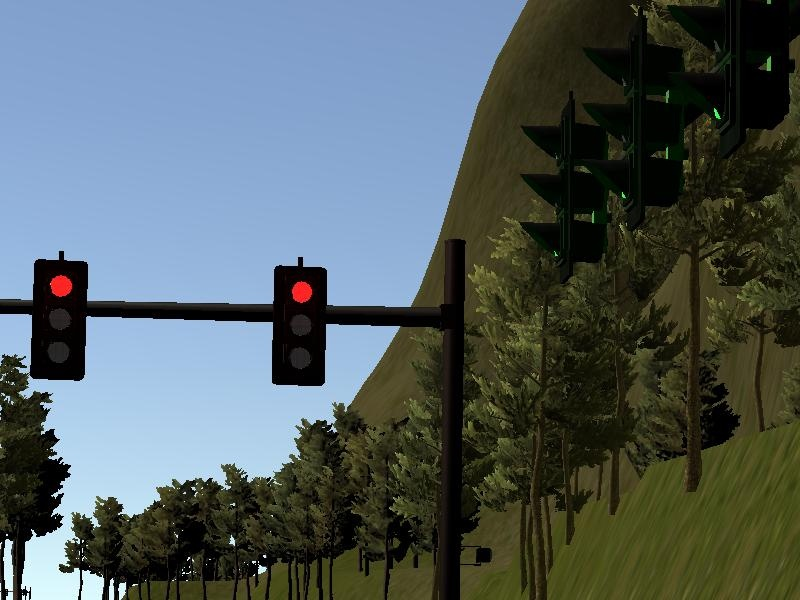RED: (29, 257, 87, 379), (270, 266, 328, 388)
